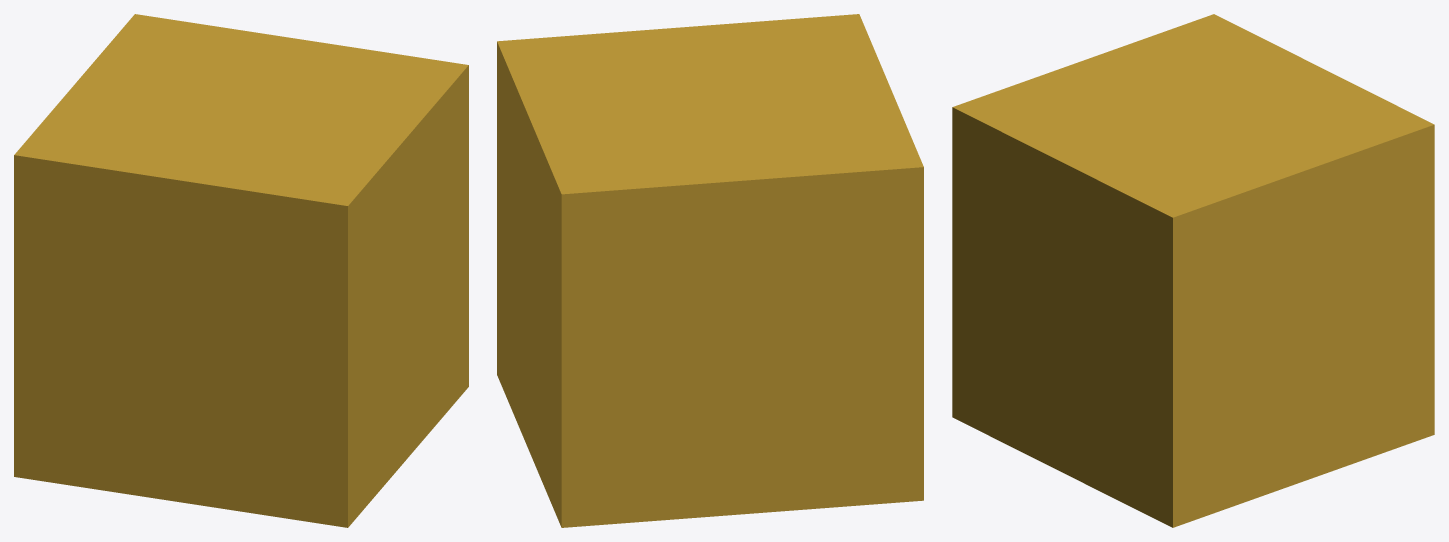
File: shard3.gltf
3 renders of one model, left to right at view 1: azimuth 30°, elevation 25°; view 2: azimuth 150°, elevation 25°; view 3: azimuth 270°, elevation 25°, orthographic. The views are drawn at different scales.
Parts seen in each view (by area): view 1: shard3_mesh; view 2: shard3_mesh; view 3: shard3_mesh.
Boxes of the visible parts, x1,y1,x2,y2 form: shard3_mesh: [14, 14, 468, 527]; shard3_mesh: [497, 14, 923, 527]; shard3_mesh: [952, 14, 1434, 527].
Bounding box in the file's own units: 1.41 × 1 × 1.41.
